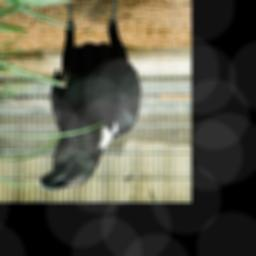Crow: (34, 0, 141, 191)
